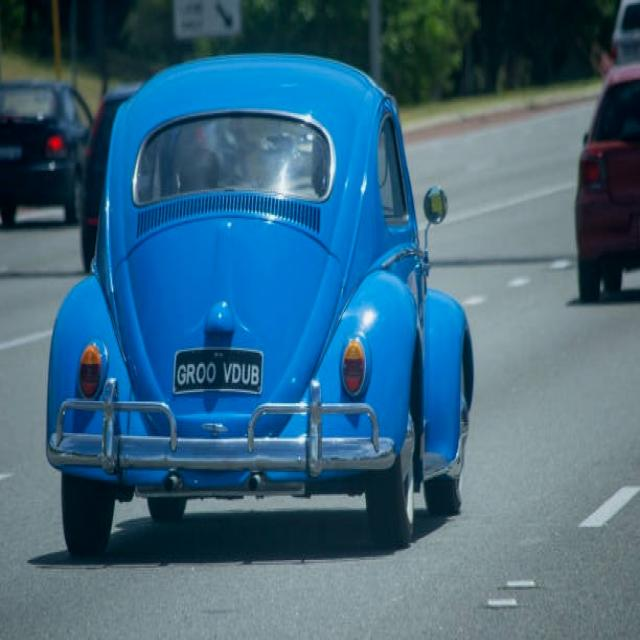car: (49, 59, 474, 537)
